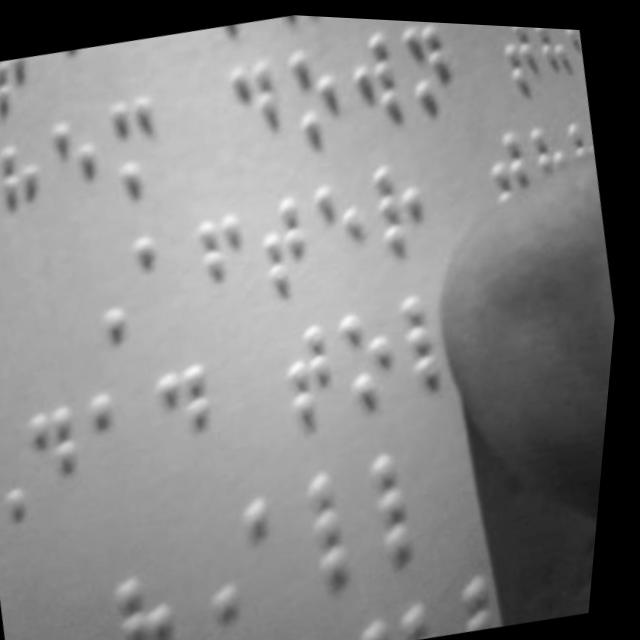braiile: (365, 436, 466, 570), (304, 458, 397, 589), (244, 171, 334, 301), (21, 389, 113, 515), (147, 350, 238, 476), (270, 309, 363, 432), (239, 477, 327, 605), (335, 295, 423, 420), (304, 160, 390, 285), (362, 144, 446, 266), (186, 194, 269, 317), (96, 86, 179, 208), (40, 104, 121, 228), (83, 374, 167, 492), (336, 14, 418, 134), (215, 41, 296, 162), (275, 32, 358, 150), (128, 219, 208, 332), (389, 16, 466, 120), (0, 130, 67, 247), (0, 145, 14, 262)
